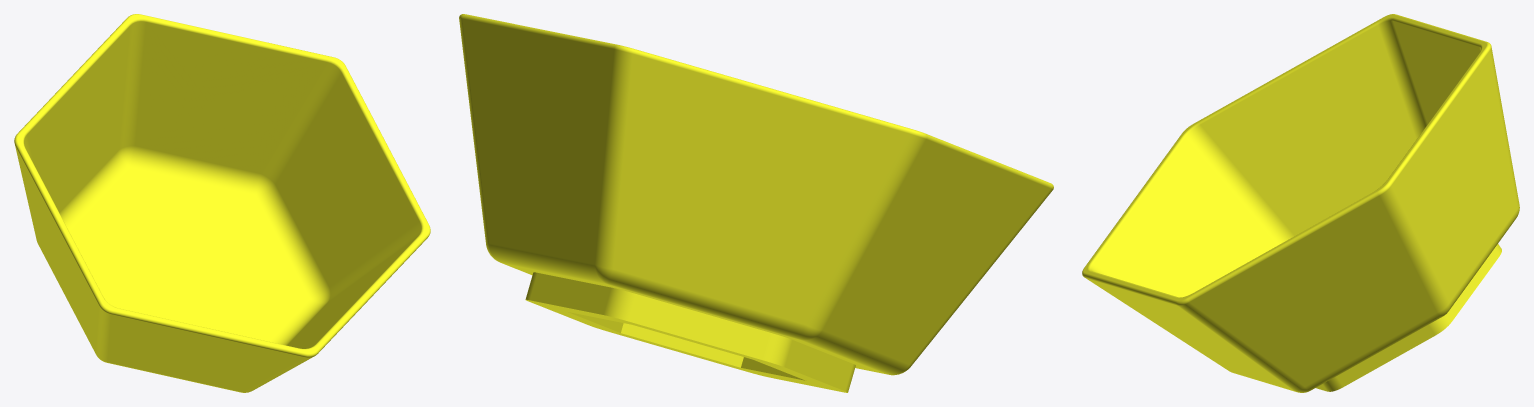
The model's file is sara2.glb.
3 renders of one model, left to right at view 1: azimuth 30°, elevation 25°; view 2: azimuth 150°, elevation 25°; view 3: azimuth 270°, elevation 25°, orthographic. The views are drawn at different scales.
Parts seen in each view (by area): view 1: Body; view 2: Body; view 3: Body.
Boxes of the visible parts, x1,y1,x2,y2 form: Body: (14,14,430,392); Body: (459,14,1053,392); Body: (1082,14,1519,392).
Size of the model in its own units: 0.0951 by 0.0821 by 0.0983.
